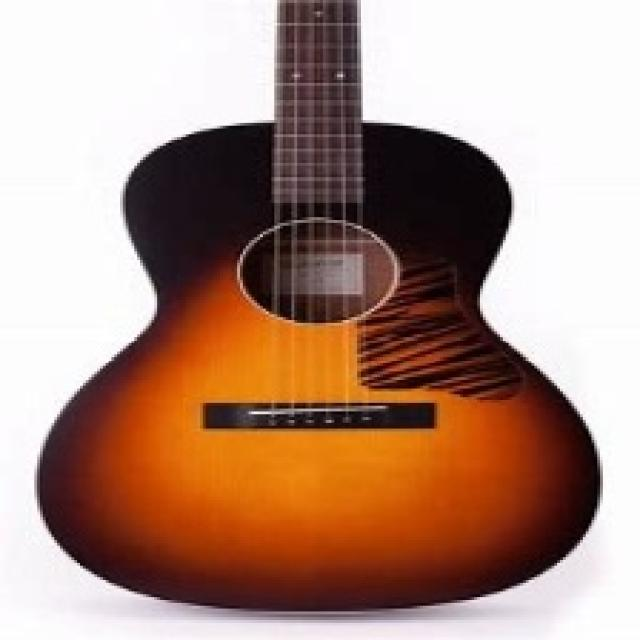guitar: (34, 1, 599, 616)
